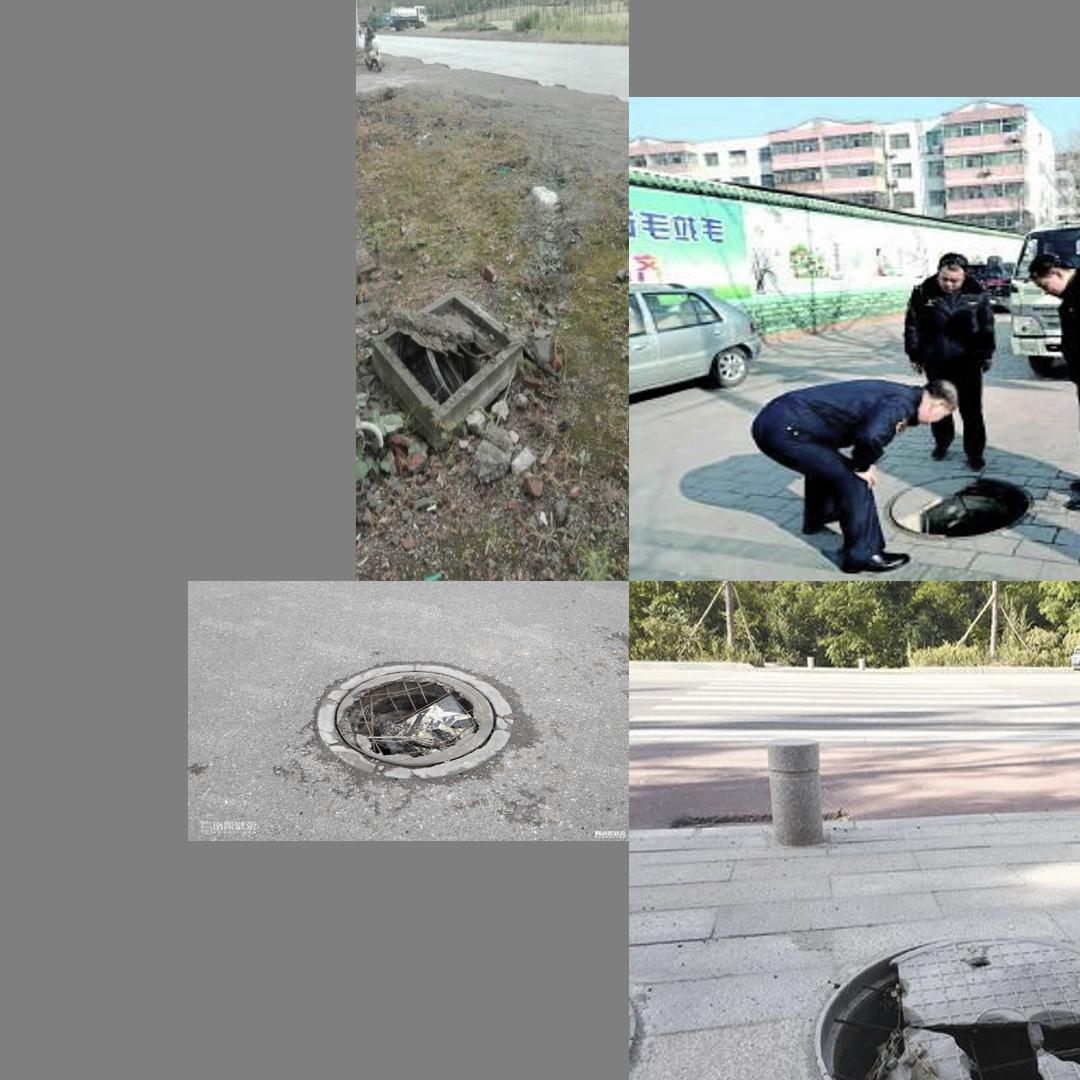broke: (798, 890, 1080, 1080), (307, 654, 519, 778), (372, 288, 523, 426), (867, 460, 1045, 540)
